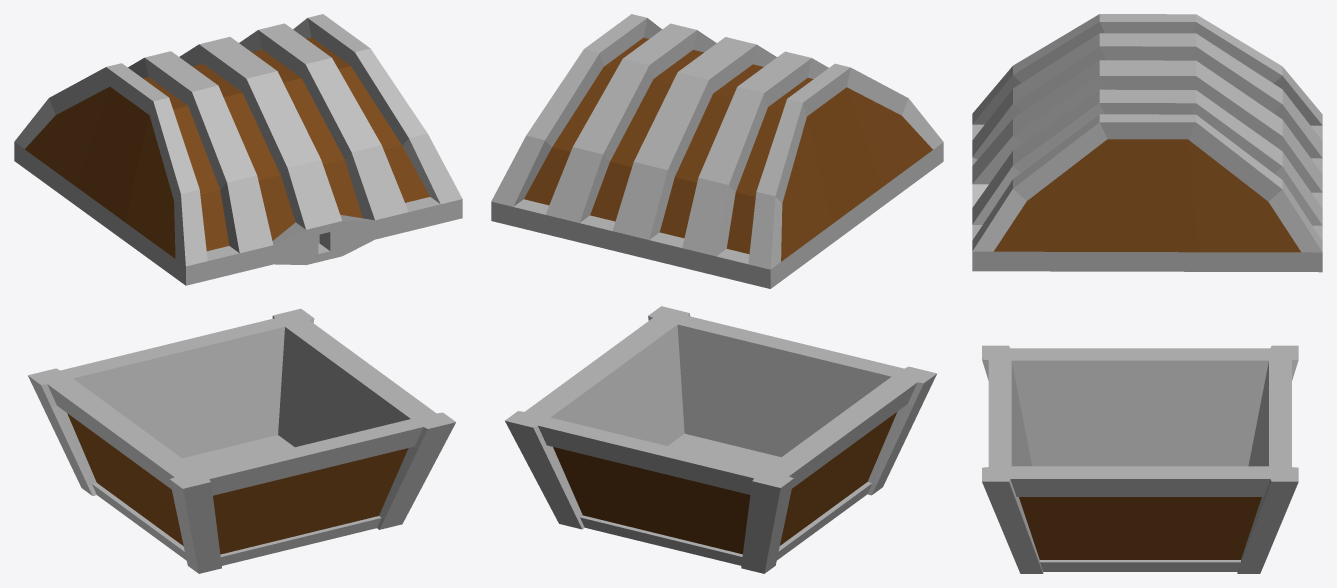
Rendered from Chest.fbx.
The picture shows the model from 3 angles, left to right: view 1: azimuth 30°, elevation 25°; view 2: azimuth 150°, elevation 25°; view 3: azimuth 270°, elevation 25°; orthographic projection. The views are drawn at different scales.
Visible parts, largest first — view 1: Cube.001, Cube; view 2: Cube.001, Cube; view 3: Cube.001, Cube.
Part boxes in pixels (<box>): Cube.001: <box>14,14,462,285</box>; Cube: <box>28,308,455,573</box>; Cube.001: <box>491,14,943,288</box>; Cube: <box>505,306,936,573</box>; Cube.001: <box>972,14,1322,272</box>; Cube: <box>982,345,1298,573</box>.
Bounding box in the file's own units: 270 × 416 × 290.
